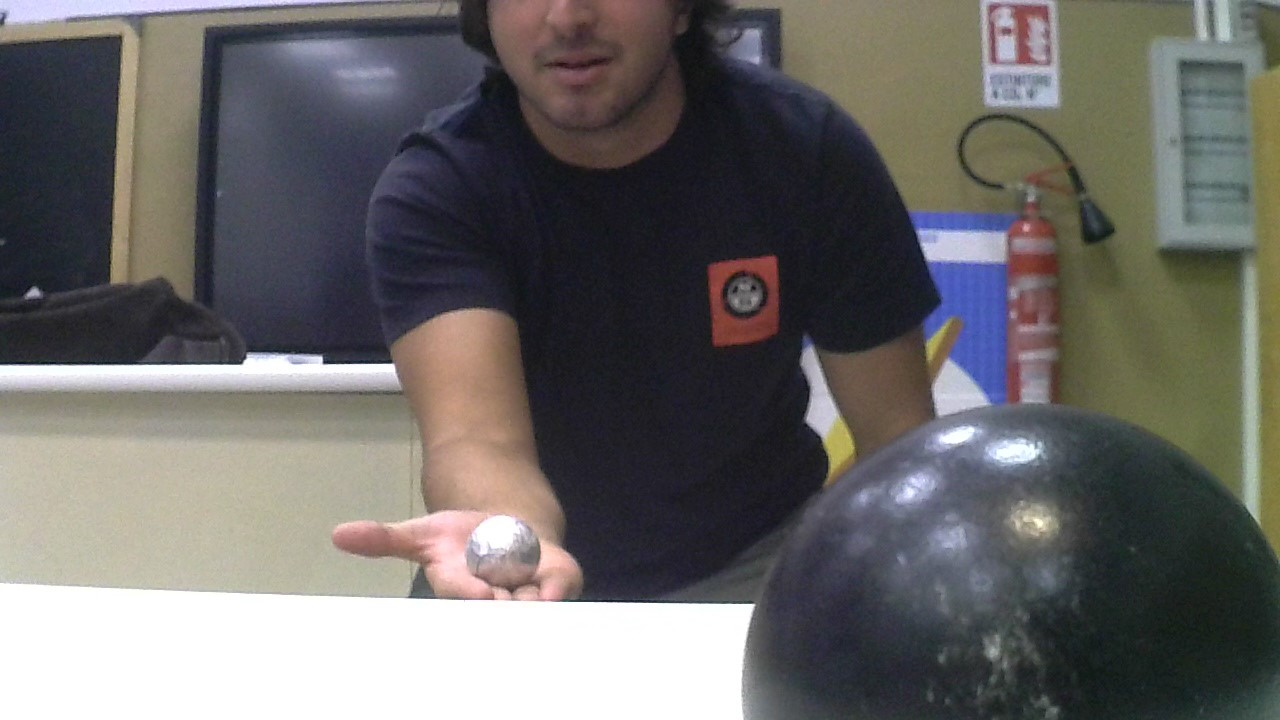silver_ball: (466, 512, 546, 586)
